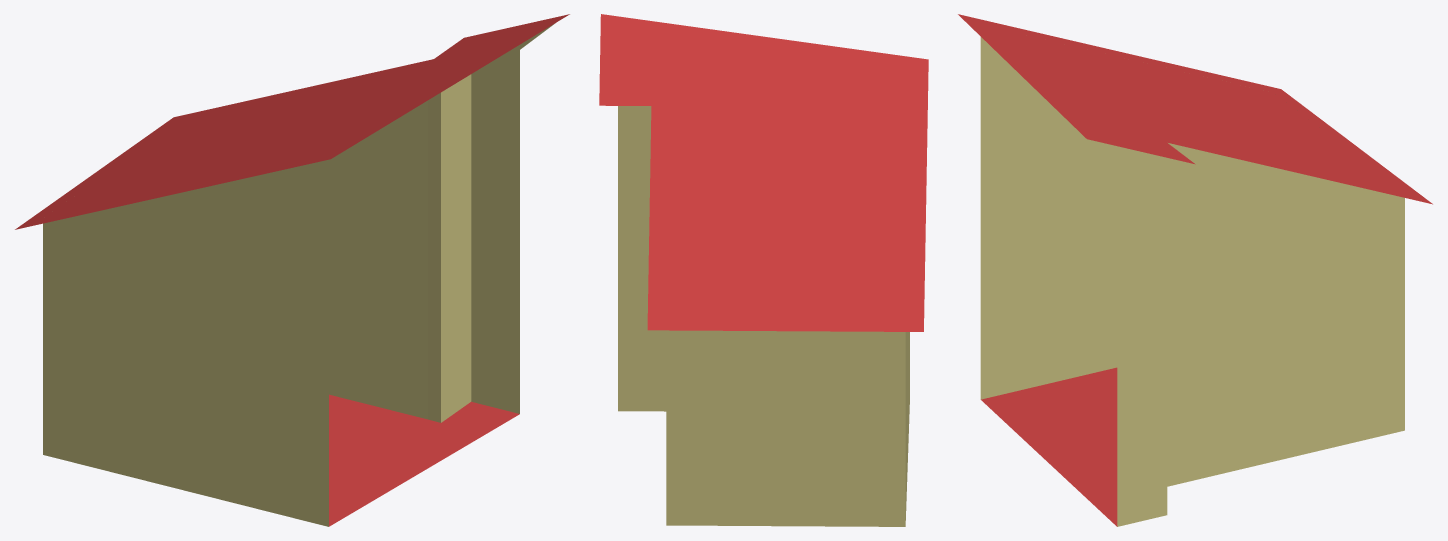
The picture shows the model from 3 angles, left to right: view 1: azimuth 30°, elevation 25°; view 2: azimuth 150°, elevation 25°; view 3: azimuth 270°, elevation 25°; orthographic projection. The views are drawn at different scales.
Size of the model in its own units: 12.72 by 11.34 by 10.65.
